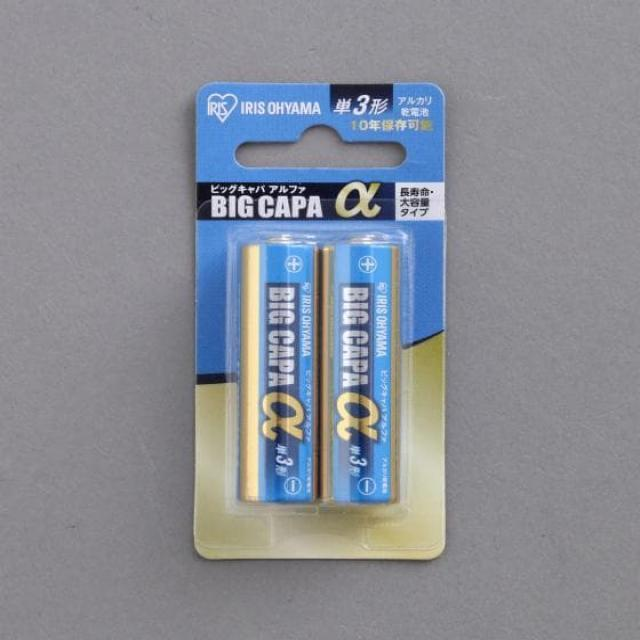hazardous waste: (315, 233, 406, 511), (236, 234, 317, 510)
